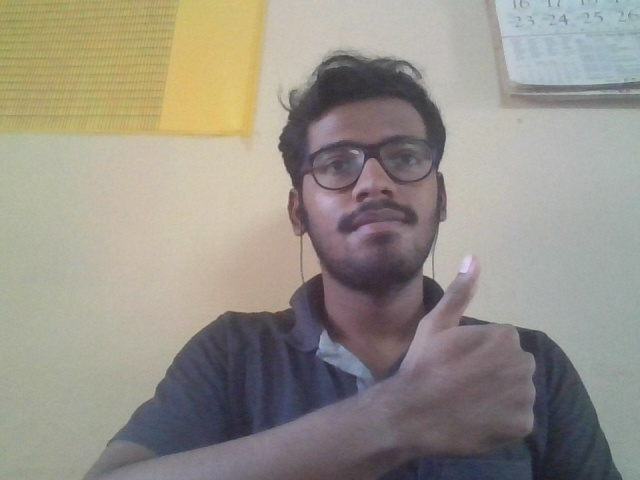ThumbsUp: (402, 252, 536, 457)
